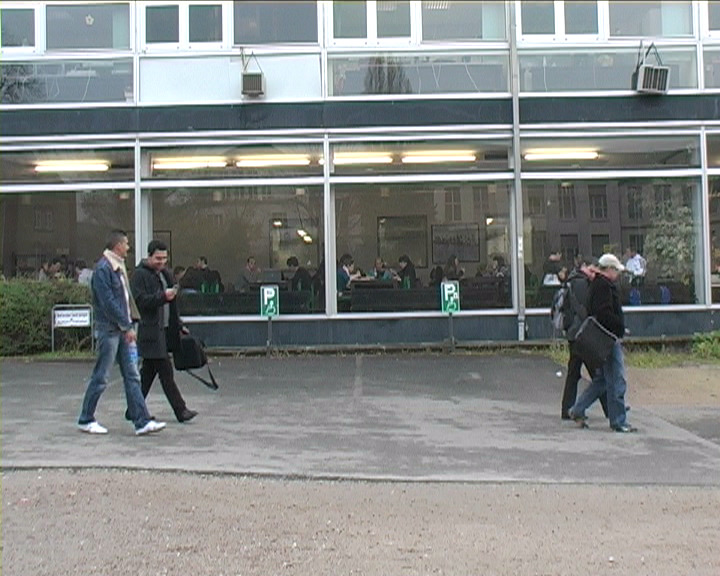deflection: (91, 225, 141, 322)
